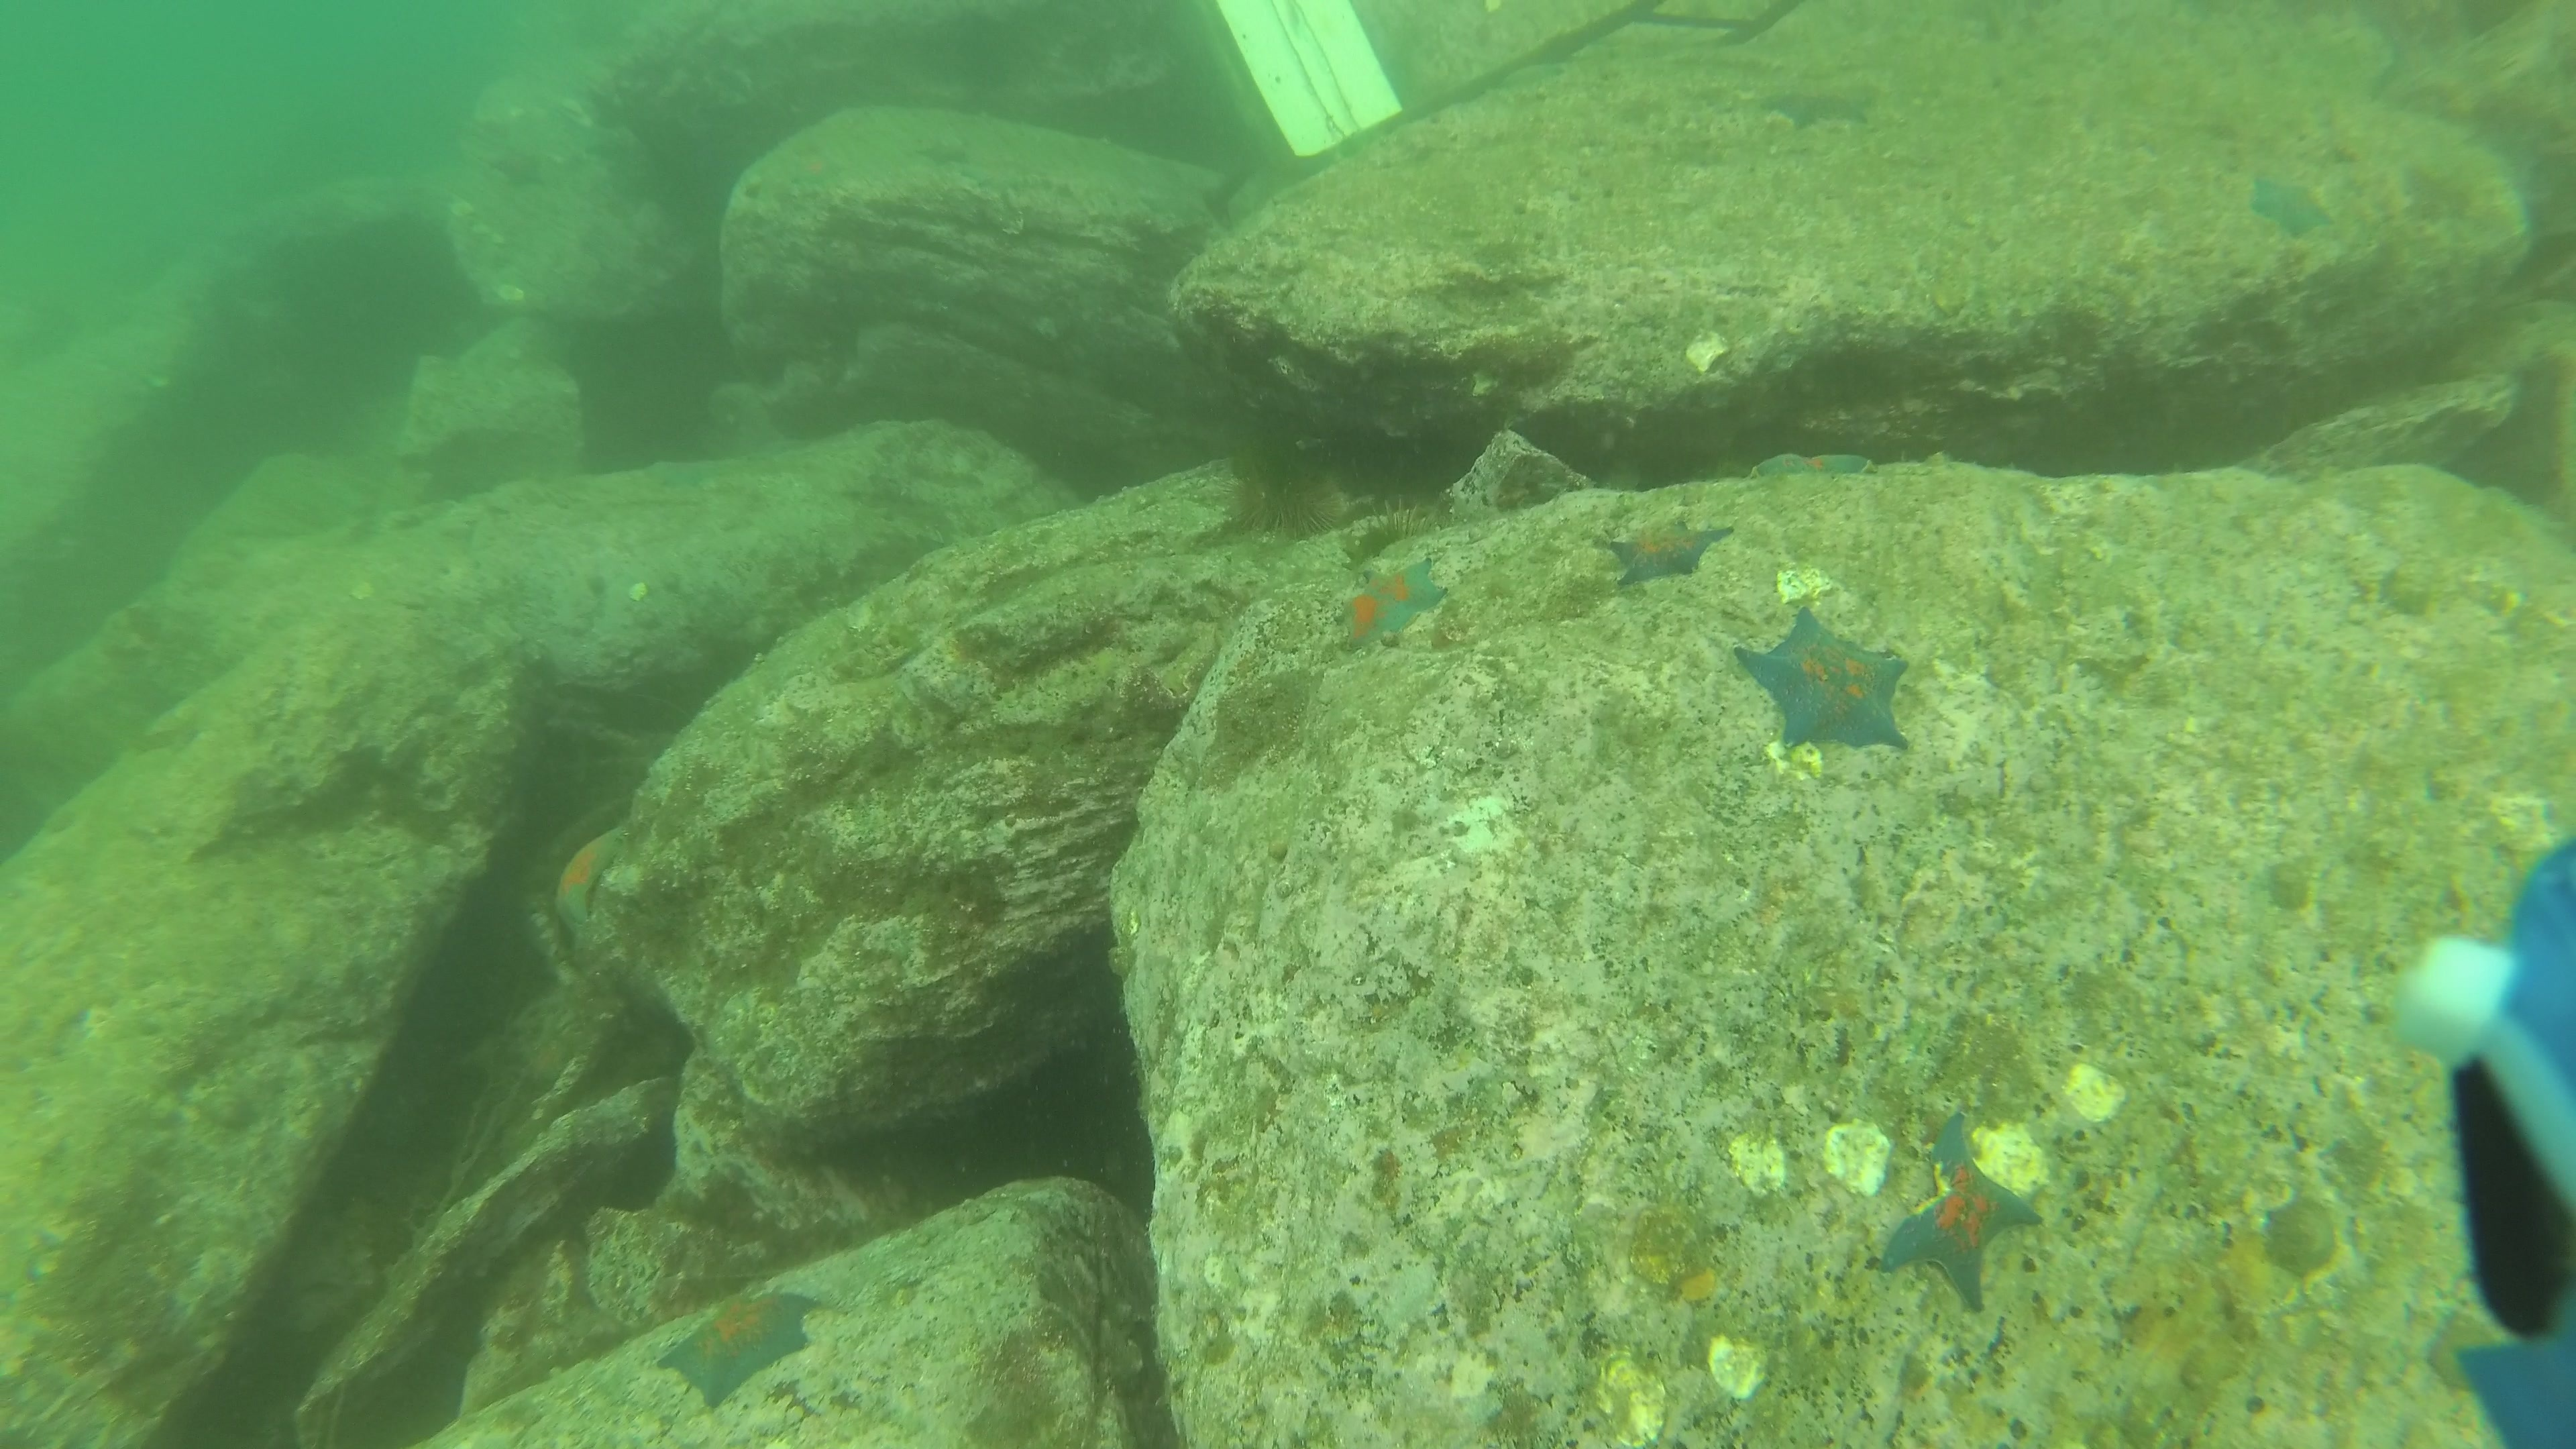echinus: (1219, 435, 1355, 545), (1346, 492, 1460, 557)
starfish: (1877, 1102, 2049, 1318), (1732, 602, 1916, 754), (651, 1288, 824, 1412), (1323, 552, 1453, 653), (1605, 506, 1739, 593), (1752, 65, 1884, 152), (554, 817, 637, 932), (2249, 170, 2339, 242), (1741, 444, 1881, 483), (778, 143, 847, 193), (909, 134, 970, 166)
